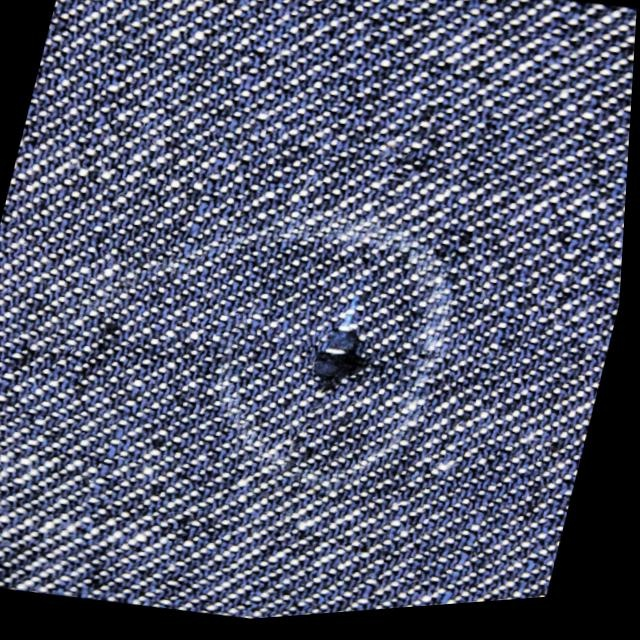Hole: (262, 278, 429, 431)
